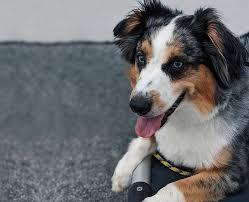Dog: (110, 0, 246, 139)
